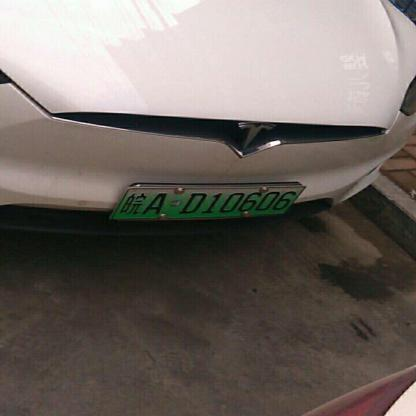lp: (113, 186, 305, 218)
